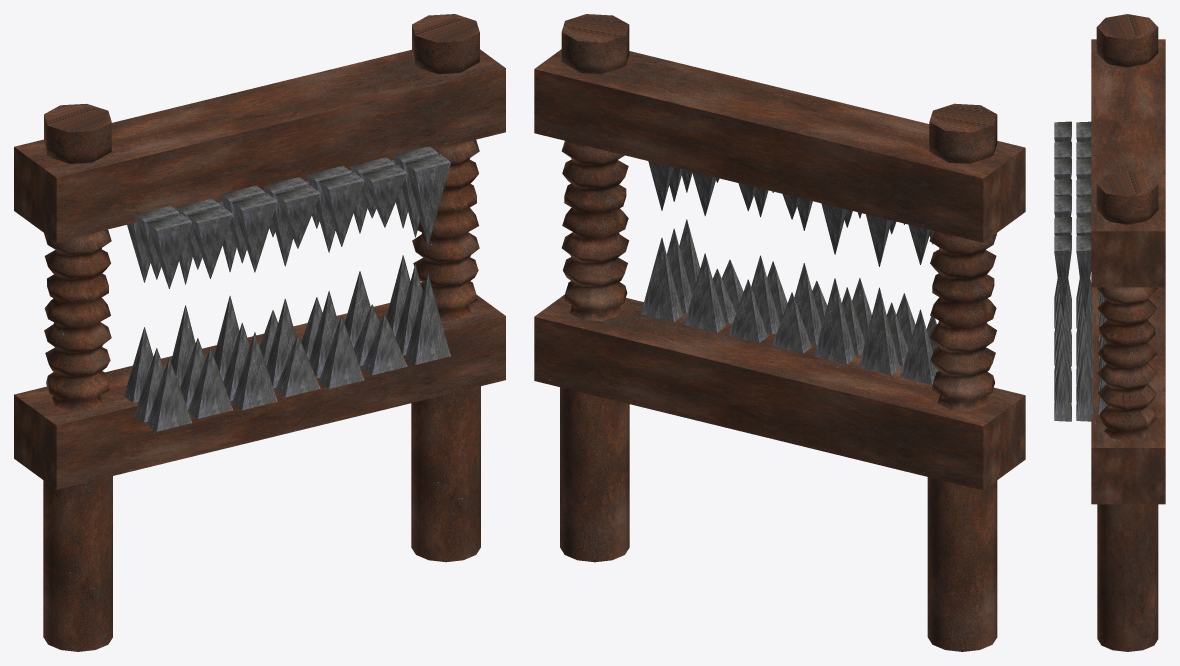
The model's file is torture04.fbx.
The picture shows the model from 3 angles, left to right: view 1: azimuth 30°, elevation 25°; view 2: azimuth 150°, elevation 25°; view 3: azimuth 270°, elevation 25°; orthographic projection. The views are drawn at different scales.
Parts seen in each view (by area): view 1: Box002, Box040; view 2: Box002, Box040; view 3: Box002, Box040.
Part boxes in pixels (x1=…): Box002: x1=14, y1=14, x2=505, y2=651; Box040: x1=124, y1=146, x2=450, y2=431; Box002: x1=534, y1=14, x2=1025, y2=651; Box040: x1=641, y1=161, x2=940, y2=384; Box002: x1=1091, y1=14, x2=1165, y2=651; Box040: x1=1054, y1=121, x2=1106, y2=421.
Bounding box in the file's own units: 59.65 × 65.88 × 14.66.
